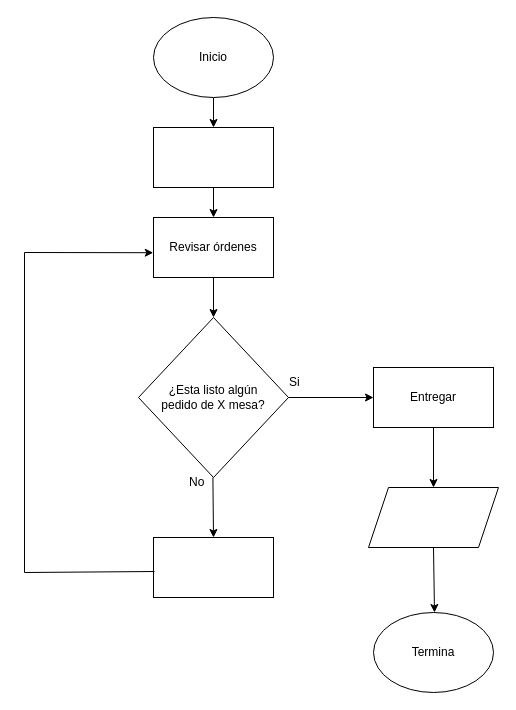
This 516x710 diagram has some shape labels left out. The centre of each missing label's shape, as x and y in pixels:
Abrir la app: the point at 213,157
Limpiar mesas: the point at 213,567
Registrar pedido completado: the point at 433,517
